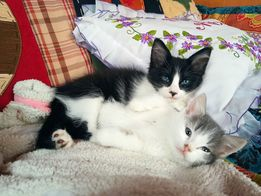cat: (51, 89, 252, 168), (37, 38, 216, 121)
